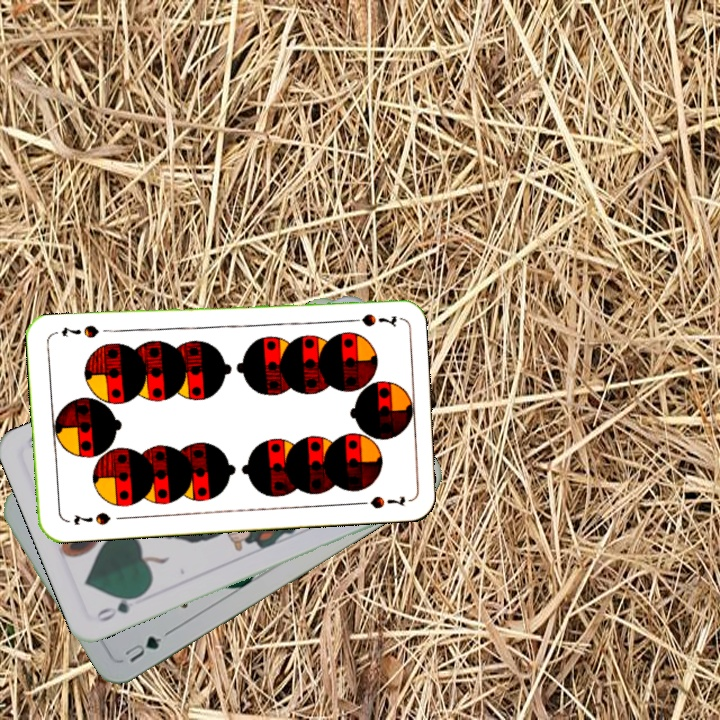GO: (91, 589, 146, 625)
GU: (120, 632, 165, 666)
S7: (340, 310, 399, 329), (69, 508, 113, 528)
